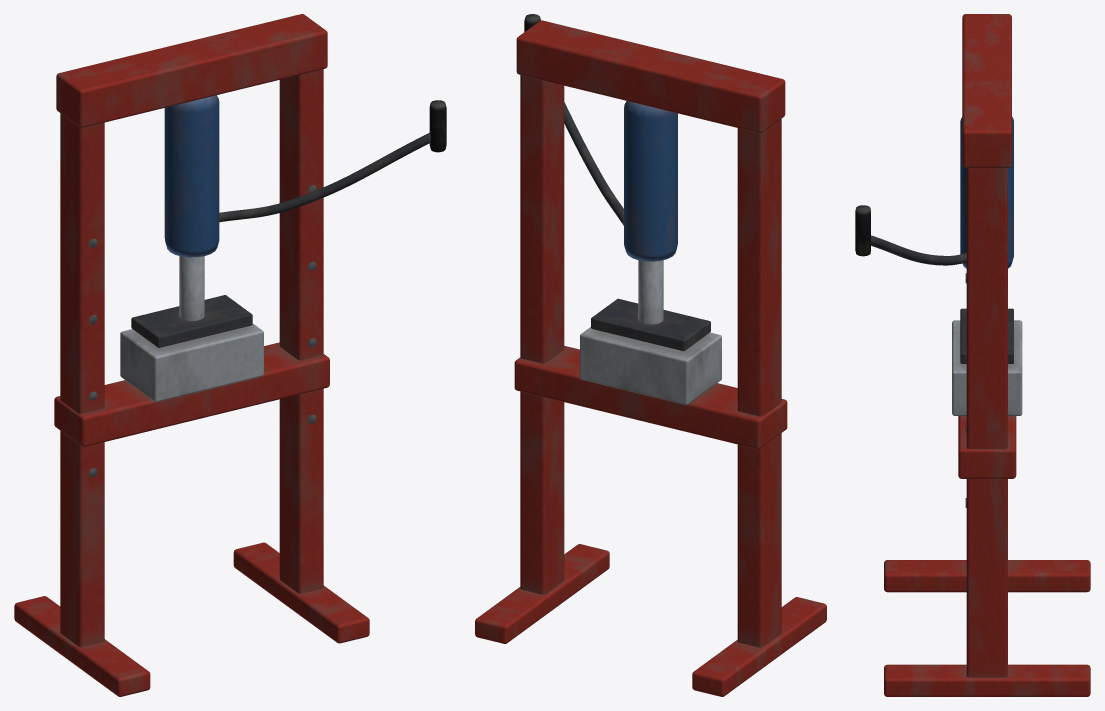
The model's file is lab_prasa.glb.
The picture shows the model from 3 angles, left to right: view 1: azimuth 30°, elevation 25°; view 2: azimuth 150°, elevation 25°; view 3: azimuth 270°, elevation 25°; orthographic projection. The views are drawn at different scales.
Visible parts, largest first — view 1: Prasa; view 2: Prasa; view 3: Prasa.
Part boxes in pixels (x1,y1,x2,y2): Prasa: (14,14,446,696); Prasa: (475,14,826,696); Prasa: (855,14,1090,696).
Size of the model in its own units: 0.865 by 1.51 by 0.569.
1 material, 1 textured.
